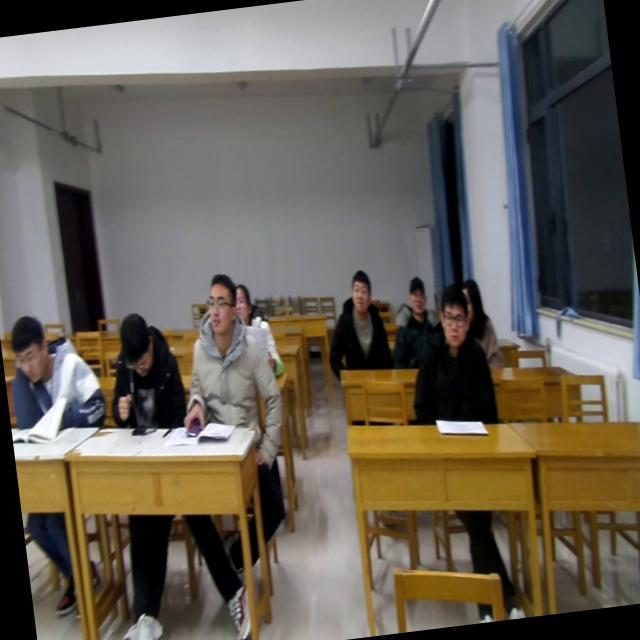bow: (0, 306, 106, 441)
down: (2, 310, 50, 384), (113, 306, 156, 382)
lookup: (432, 283, 475, 354), (200, 268, 241, 336), (342, 263, 376, 318), (402, 269, 430, 319), (230, 276, 253, 326)
sit: (166, 266, 286, 437), (398, 282, 504, 433), (98, 306, 190, 438), (318, 266, 392, 379), (384, 272, 448, 371), (231, 279, 285, 381), (458, 275, 506, 372)
